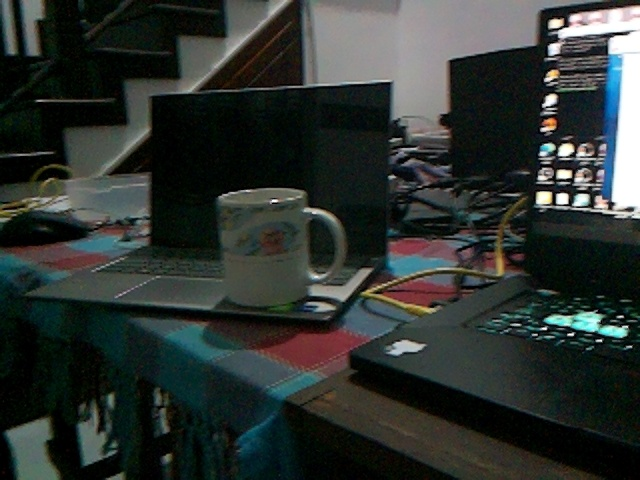mug: (212, 186, 348, 309)
